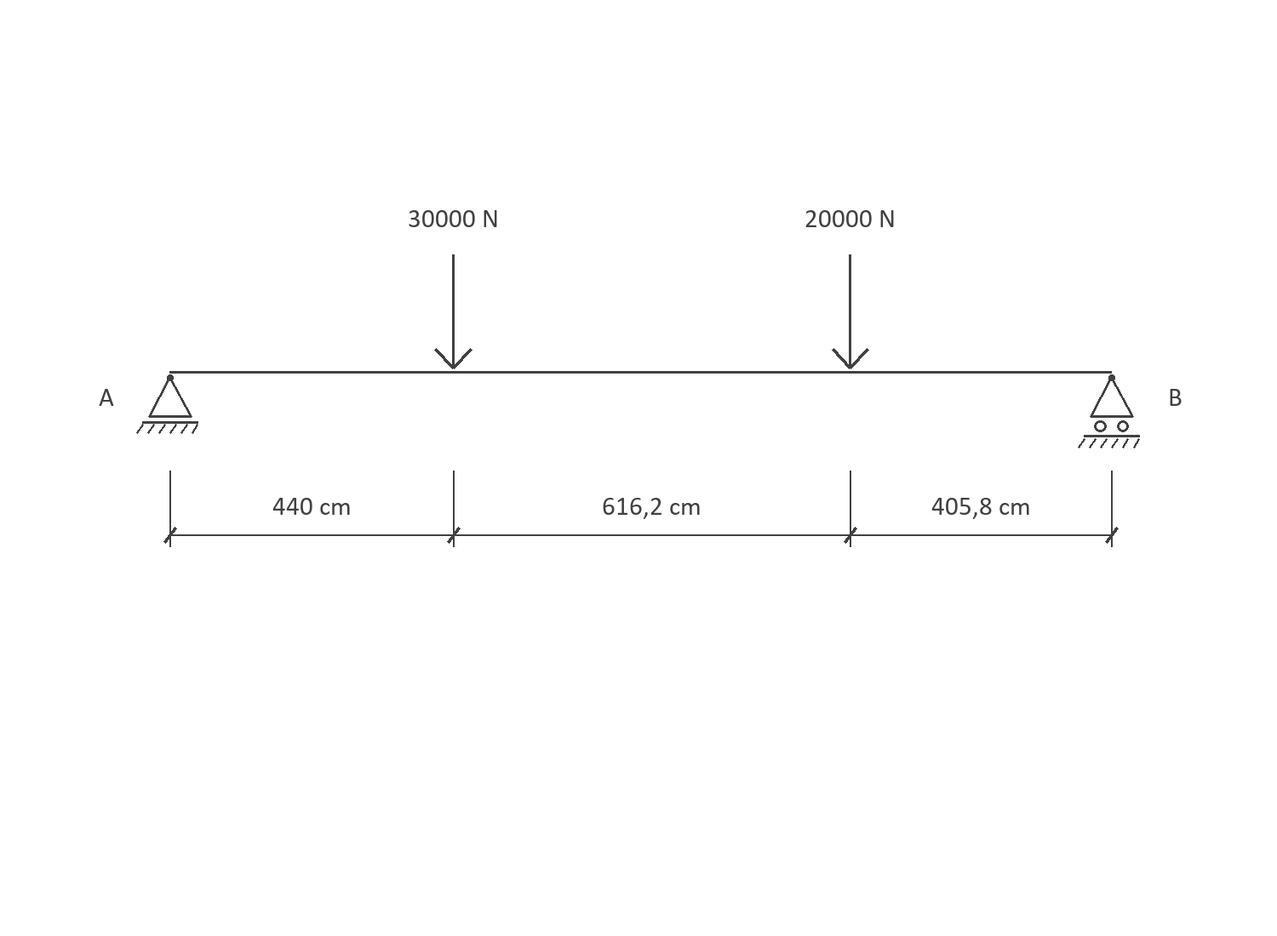pin_support: (136, 374, 198, 434)
point_load: (434, 254, 472, 369), (832, 254, 869, 369)
roller_support: (1078, 374, 1140, 448)
